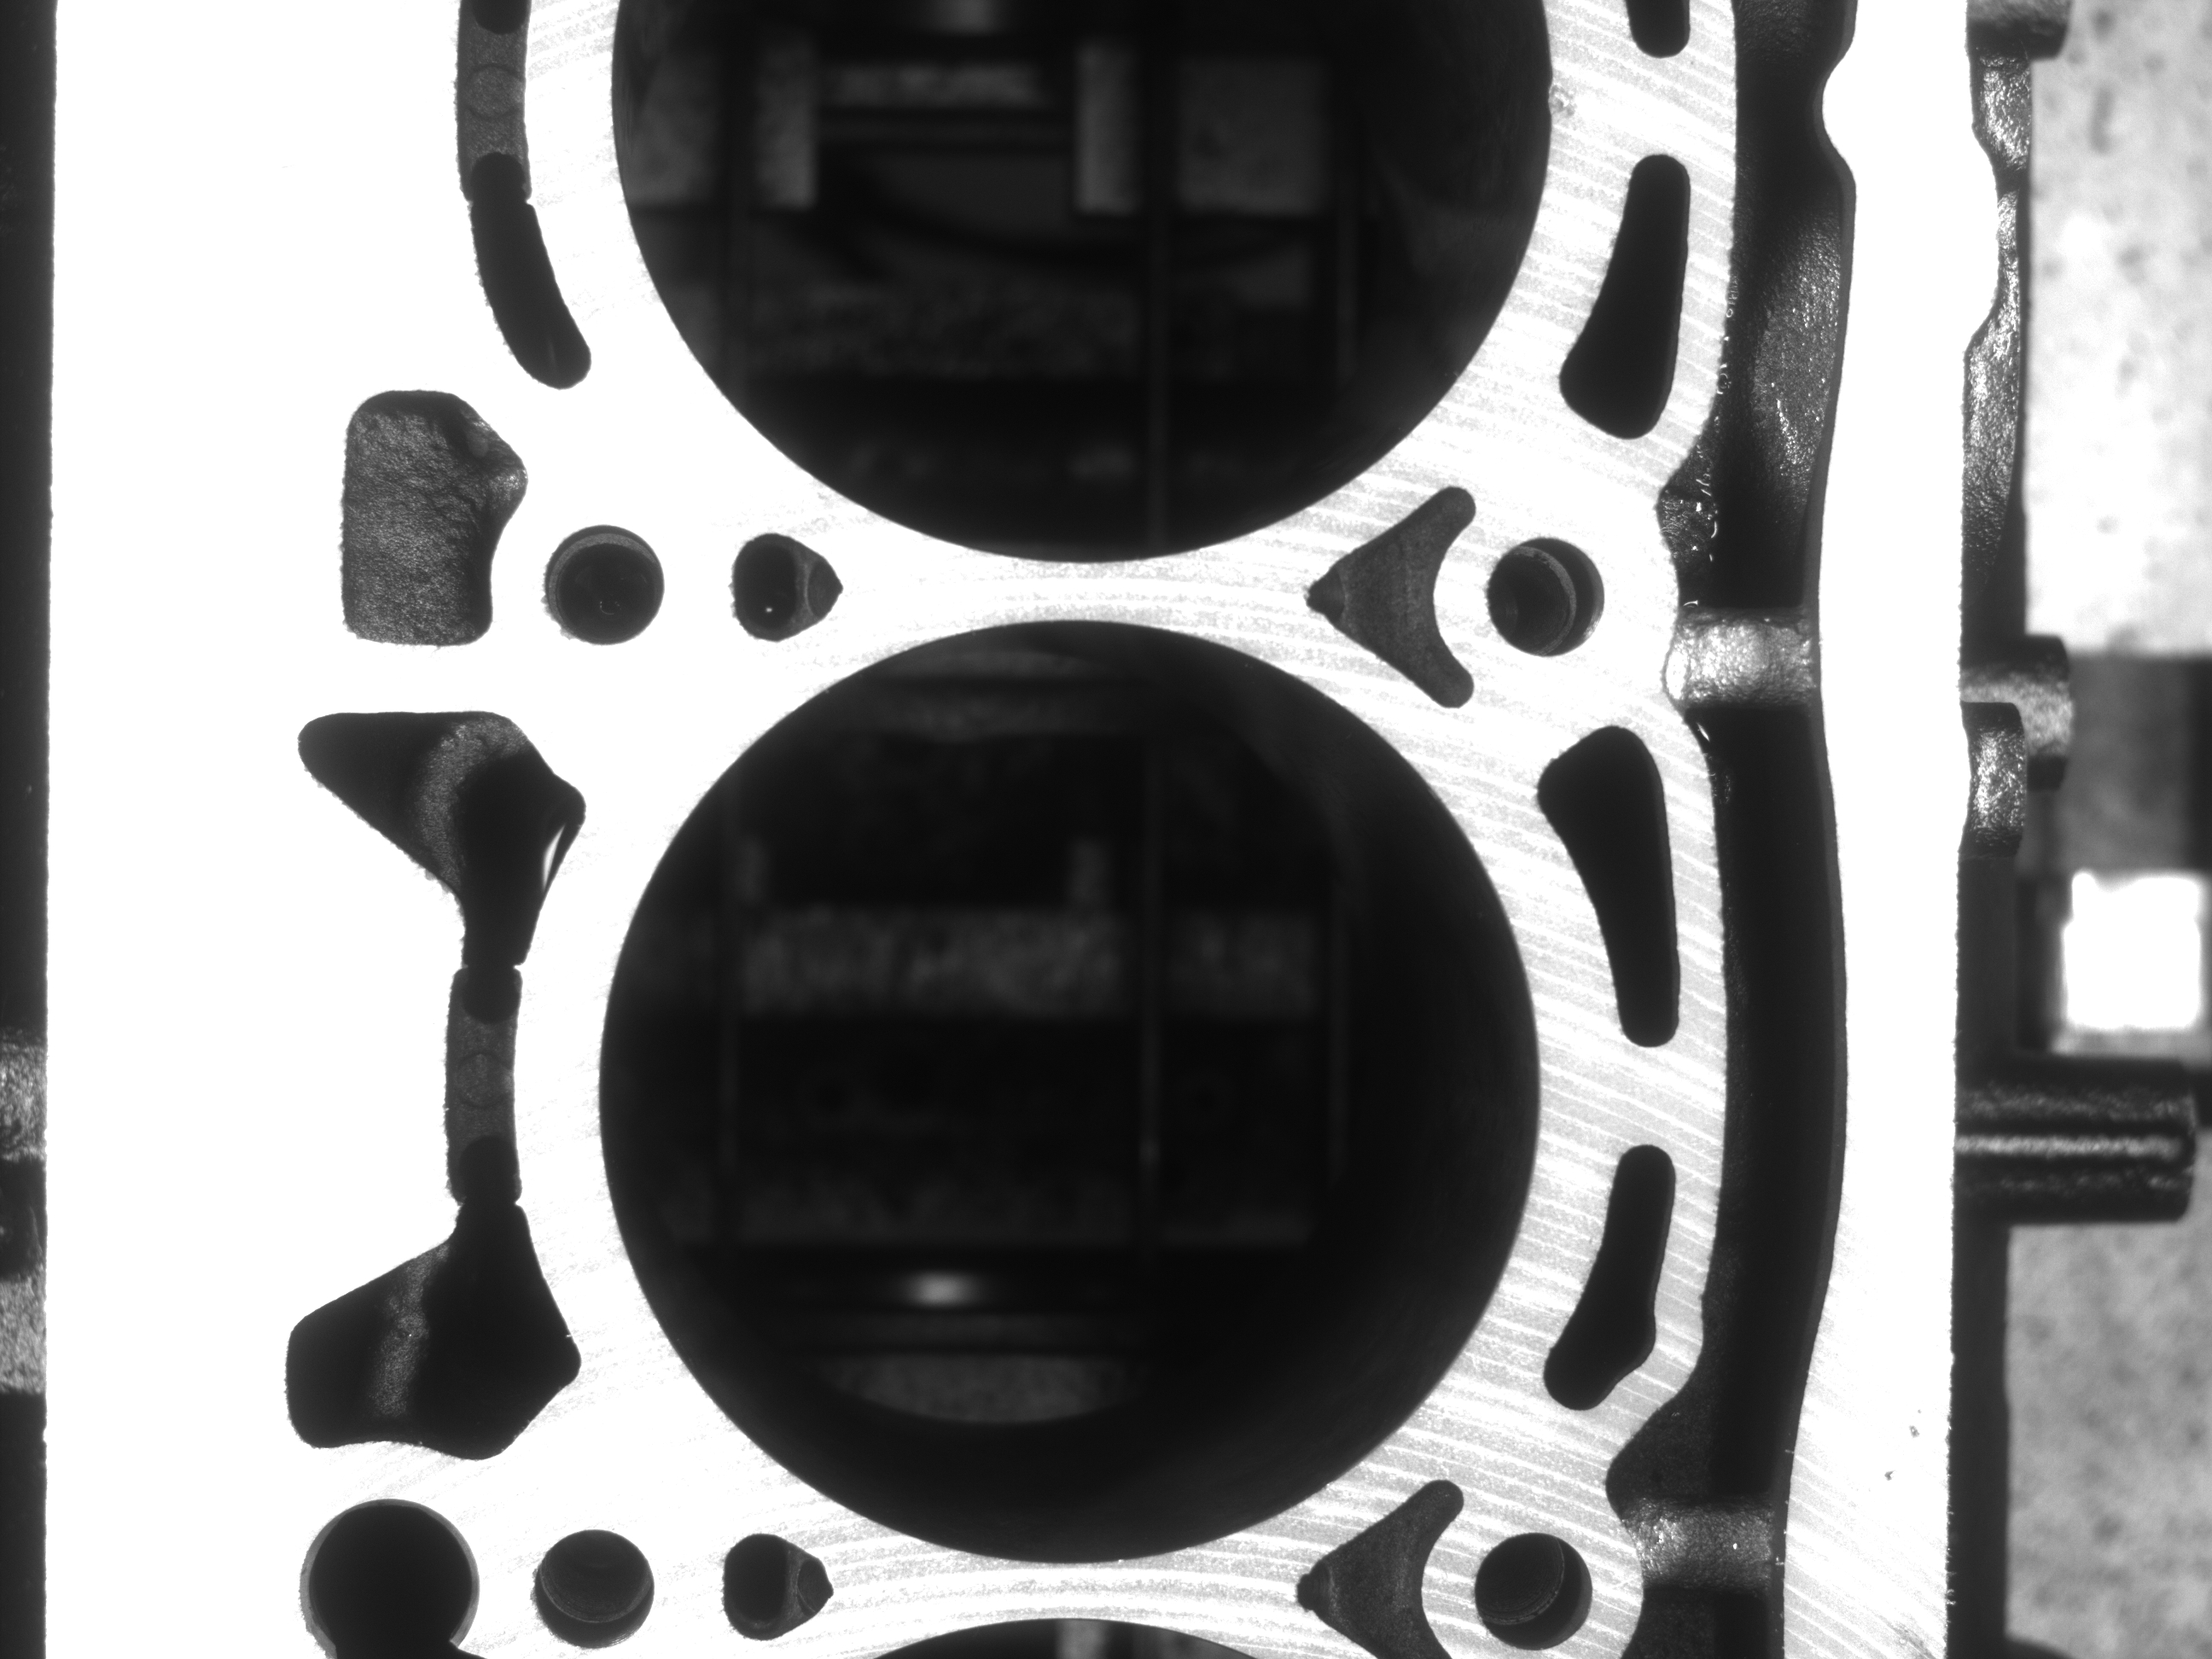sandhole: (1545, 78, 1587, 131)
